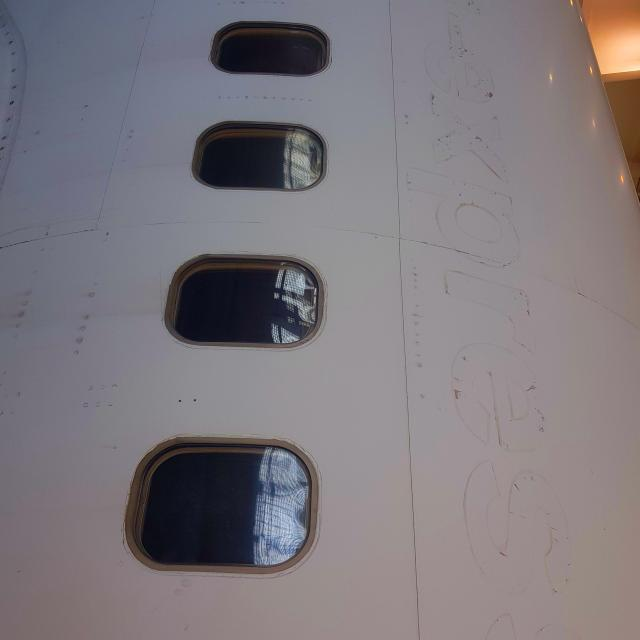crack: (1, 242, 12, 251)
